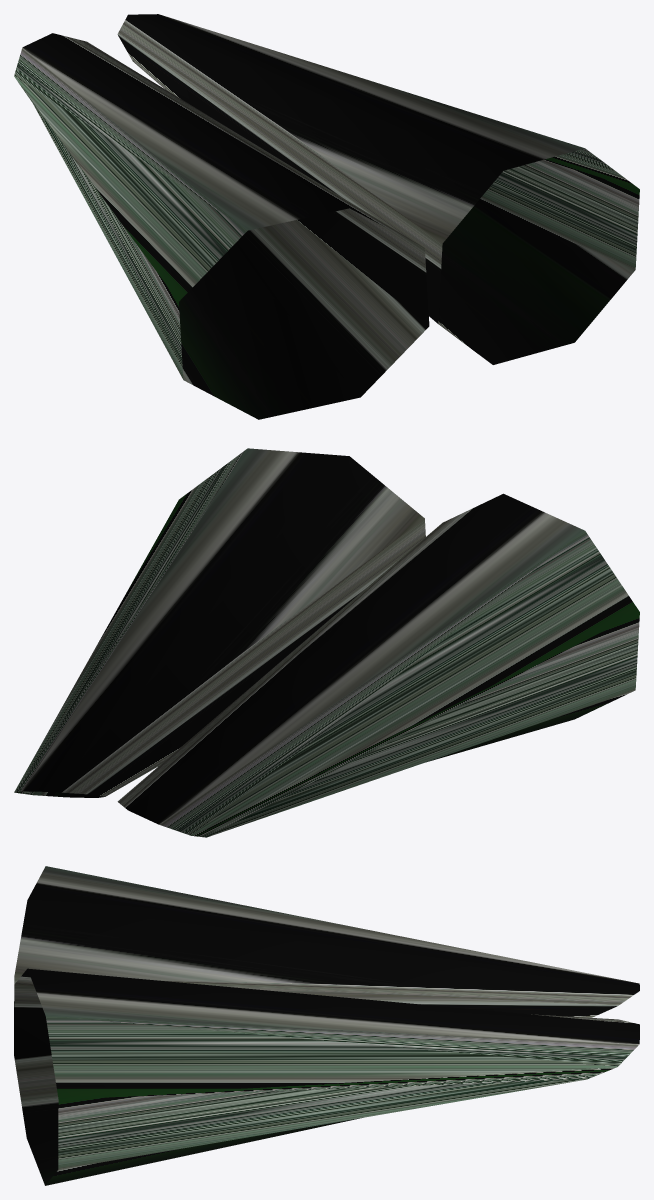
Rendered from beam.obj.
3 views of the same model, one above another, from view 1: azimuth 30°, elevation 25°; view 2: azimuth 150°, elevation 25°; view 3: azimuth 270°, elevation 25° (orthographic). The views are drawn at different scales.
Visible parts, largest first — view 1: beam; view 2: beam; view 3: beam.
Part boxes in pixels (bbox=[...]): beam: bbox=[14, 14, 639, 419]; beam: bbox=[14, 448, 639, 837]; beam: bbox=[14, 866, 639, 1185].
Size of the model in its own units: 58.66 by 24.17 by 75.68.
1 material, 1 textured.
